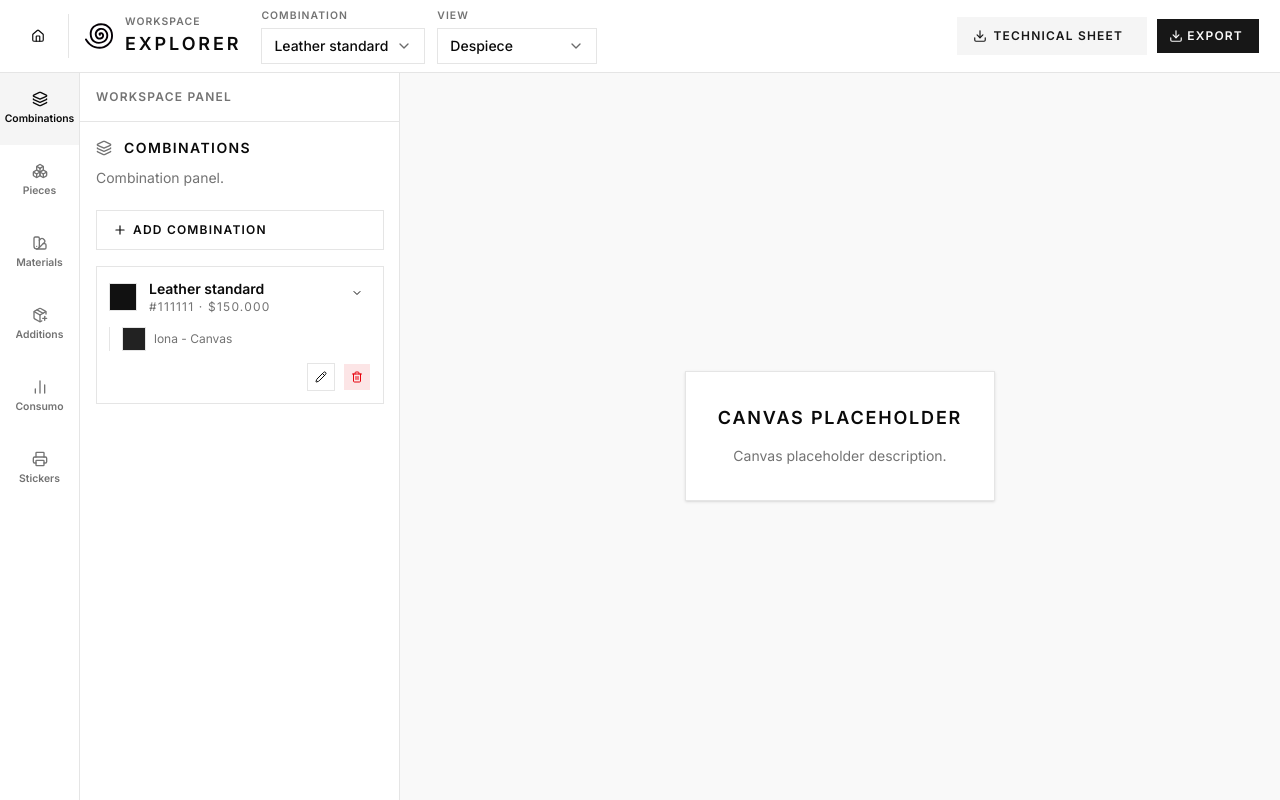
ProductWorkspace › opens the pieces panel and edits scoped material requirements
What coordinates should you click on to do the following:
click the button "Pieces"
I would click on:
 (40, 181)
Its box is [0,145,79,217].
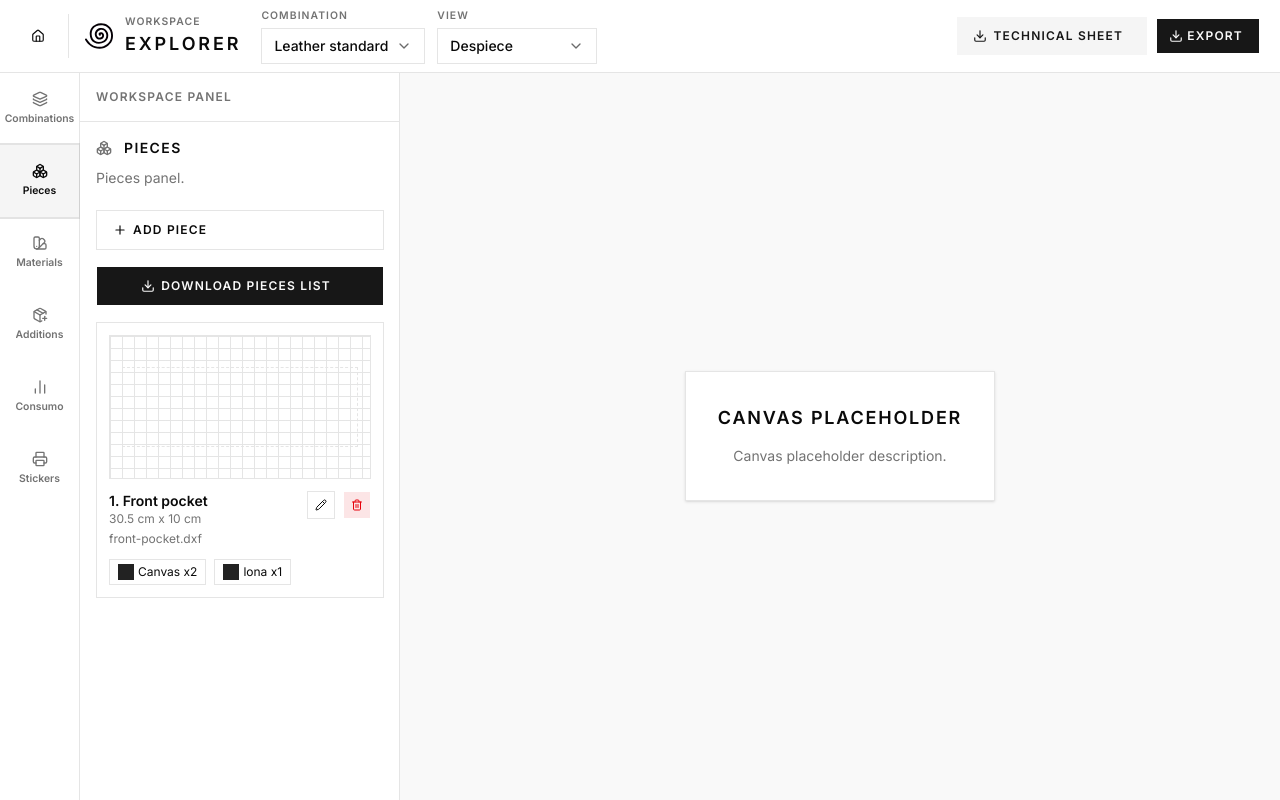
Now the heading "Pieces" is shown, box [124,138,182,158]
Now the text "1. Front pocket" is shown, box [109,491,208,511]
Now the text "30.5 cm x 10 cm" is shown, box [109,511,208,527]
What coordinates should you click on to do the following:
click the button "Add piece"
I would click on:
 (170, 229)
Its box is [96,210,384,250].
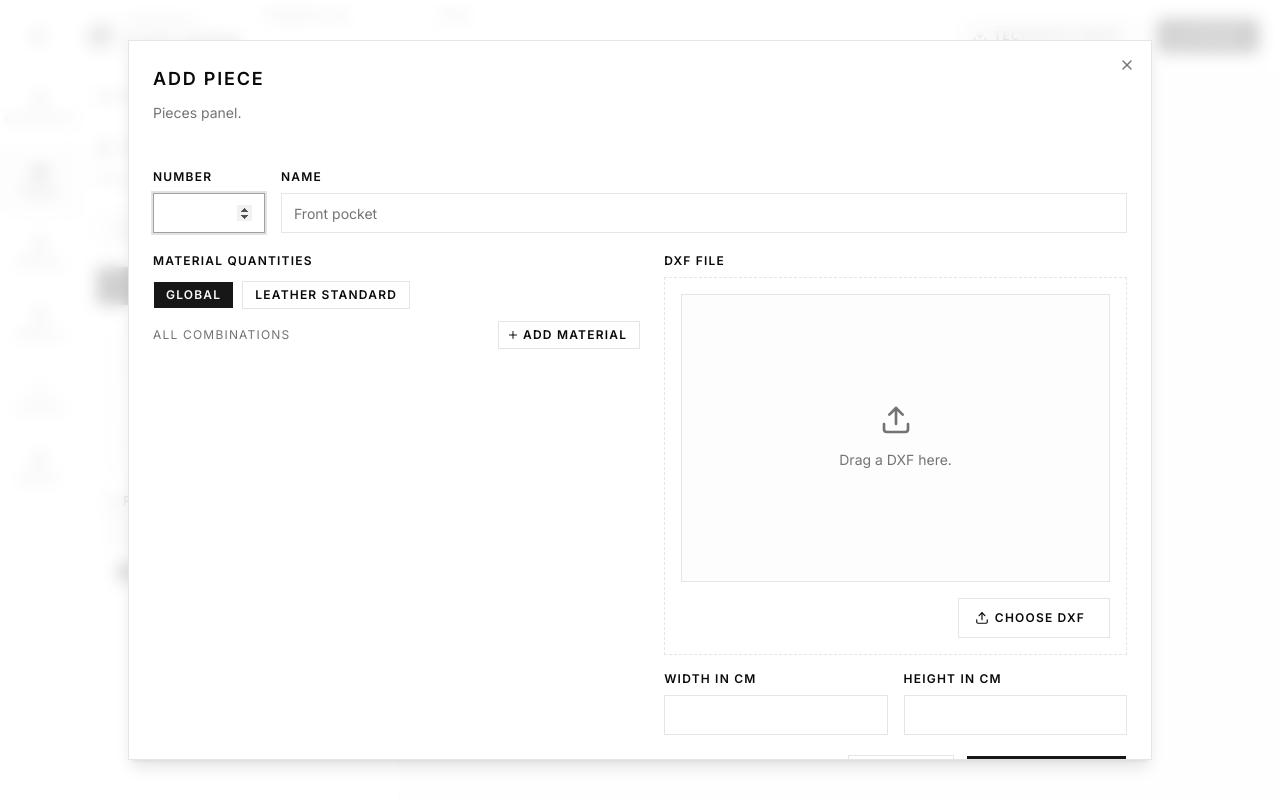
Now the heading "Add piece" is shown, box [153,68,264,89]
Now the text "Drag a DXF here." is shown, box [839,448,952,472]
Now the button "Choose DXF" is shown, box [958,598,1110,638]
What coordinates should you click on to do the following:
click the button "Add material"
I would click on:
 (569, 335)
Its box is [498,321,640,349].
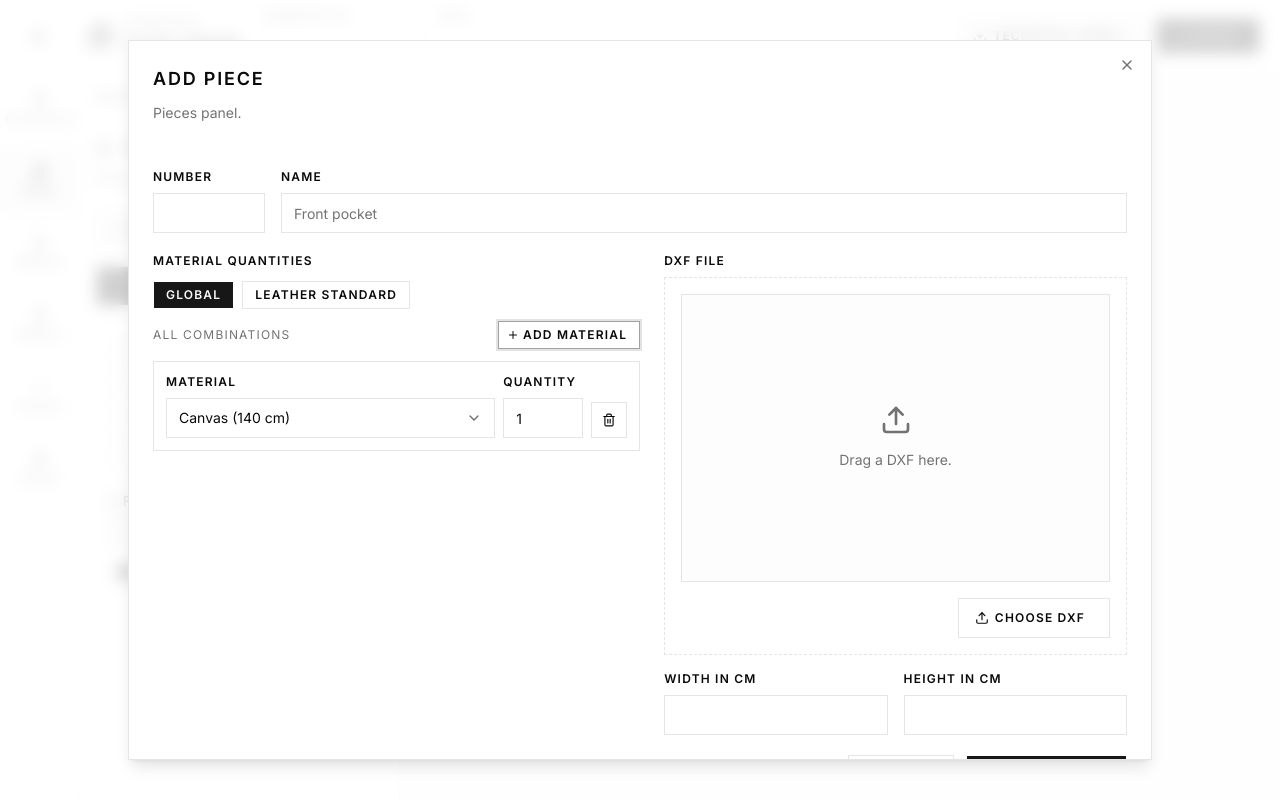
Expected: the number field named "Quantity 1" holds "1", [503,398,583,438]
Now the dropdown named "Material" reads "Canvas (140 cm)", box [166,398,495,438]
What coordinates should you click on to do the following:
click the tab "Leather standard"
I would click on:
 (326, 295)
Its box is [242,281,410,309].
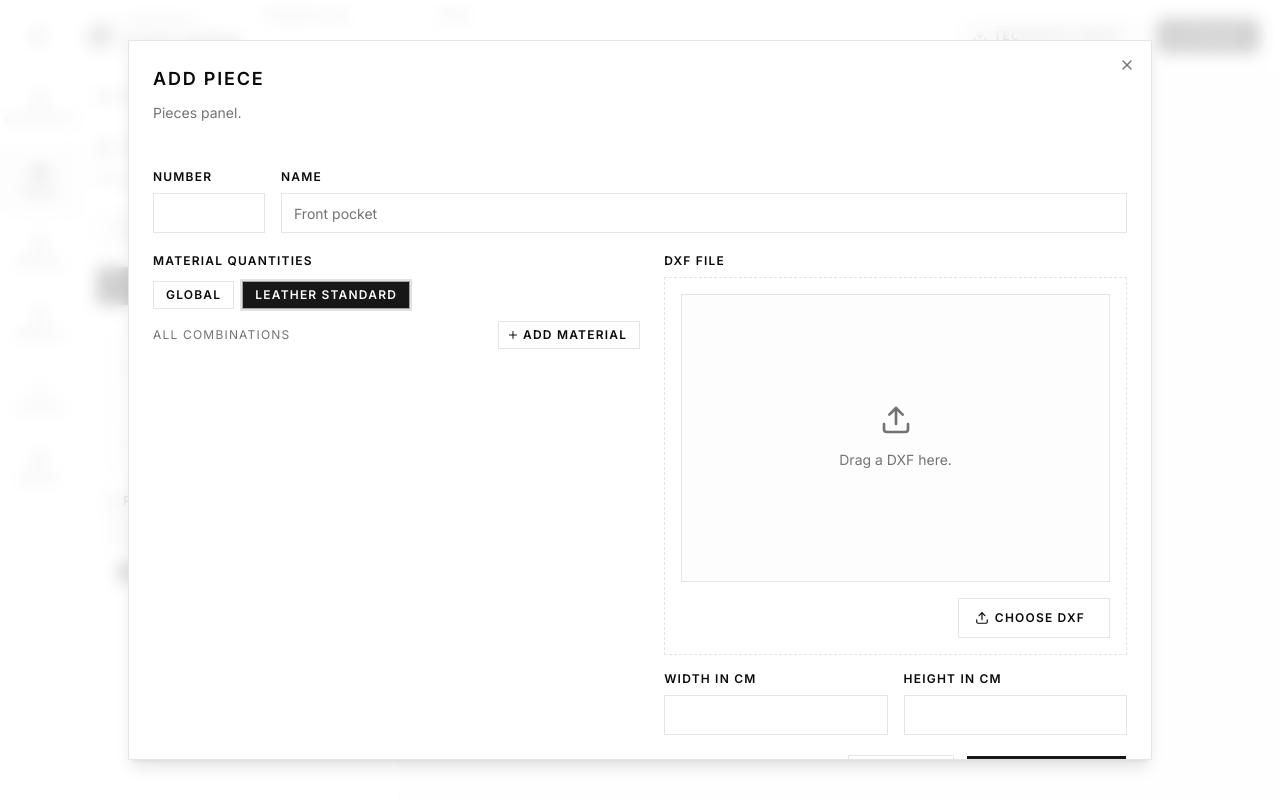
What coordinates should you click on to do the following:
click the button "Add material"
I would click on:
 (569, 335)
Its box is [498,321,640,349].
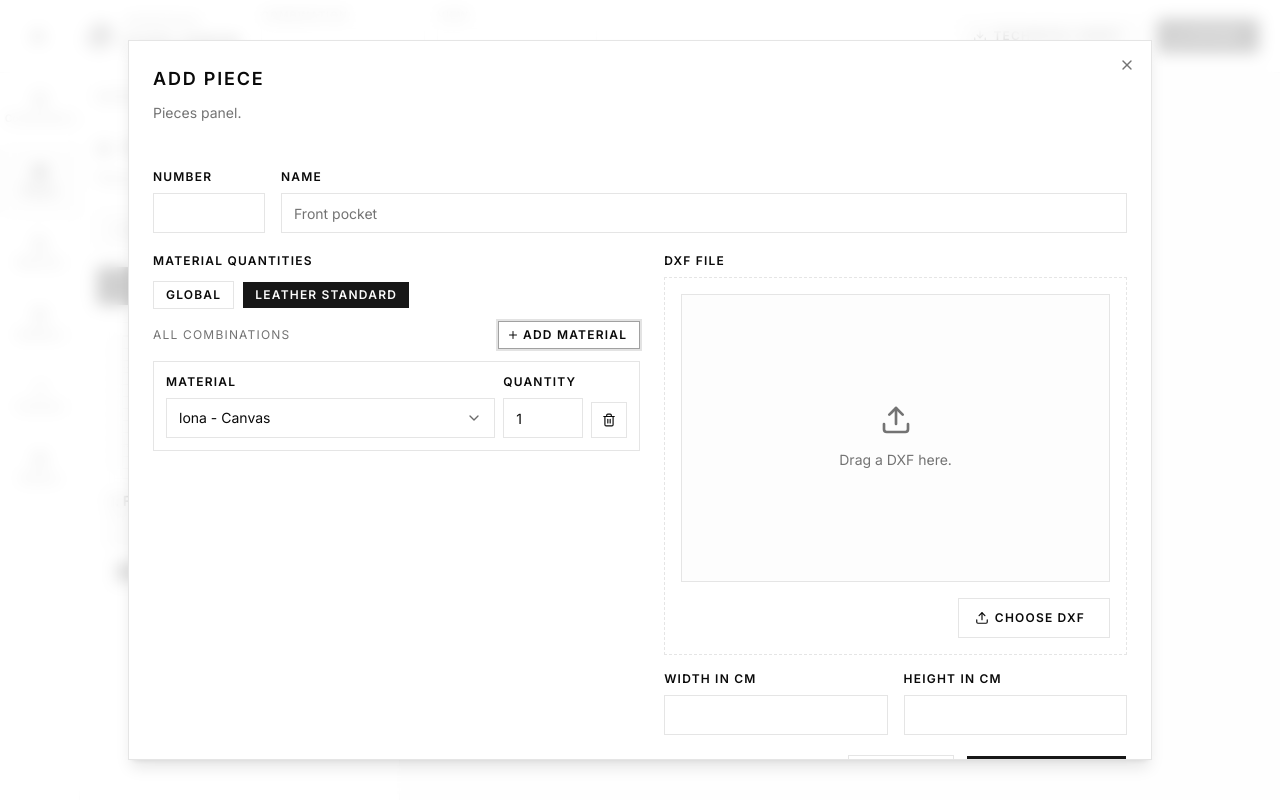
Now the dropdown named "Material" reads "lona - Canvas", box [166,398,495,438]
